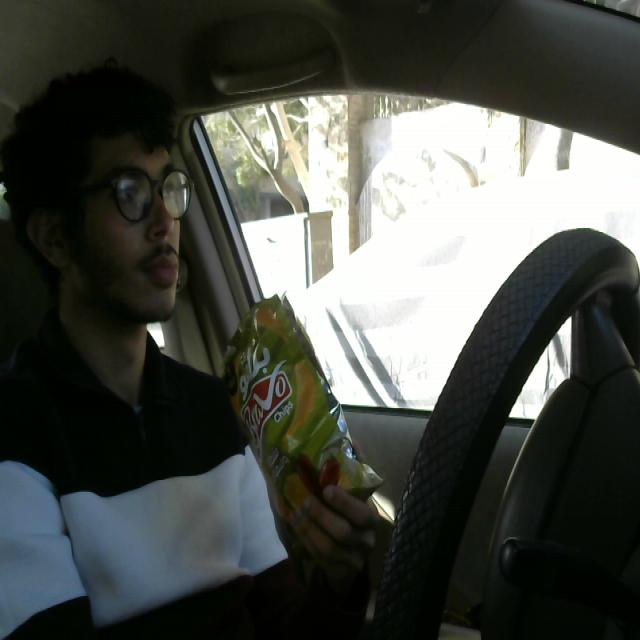eating: (218, 282, 386, 568)
